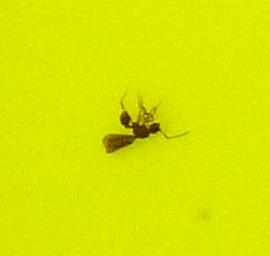Hymenoptera: (100, 100, 170, 156)
